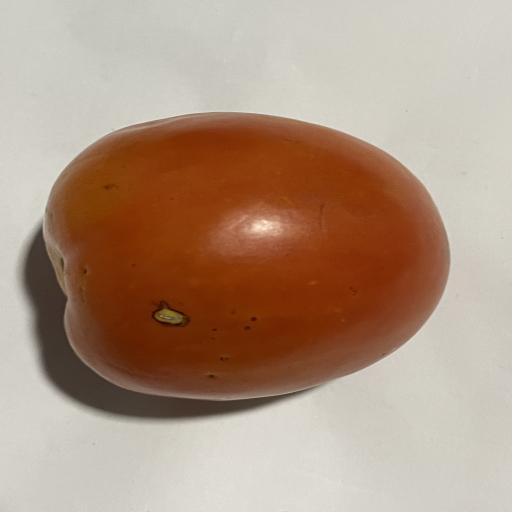ripe: (43, 112, 449, 400)
